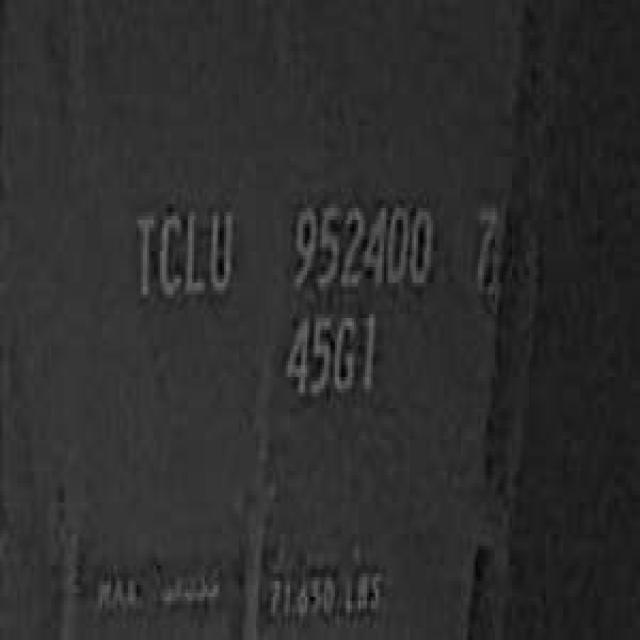dv: (465, 189, 504, 310)
owner: (128, 192, 237, 306)
serial: (284, 188, 437, 298)
size: (279, 302, 380, 404)
